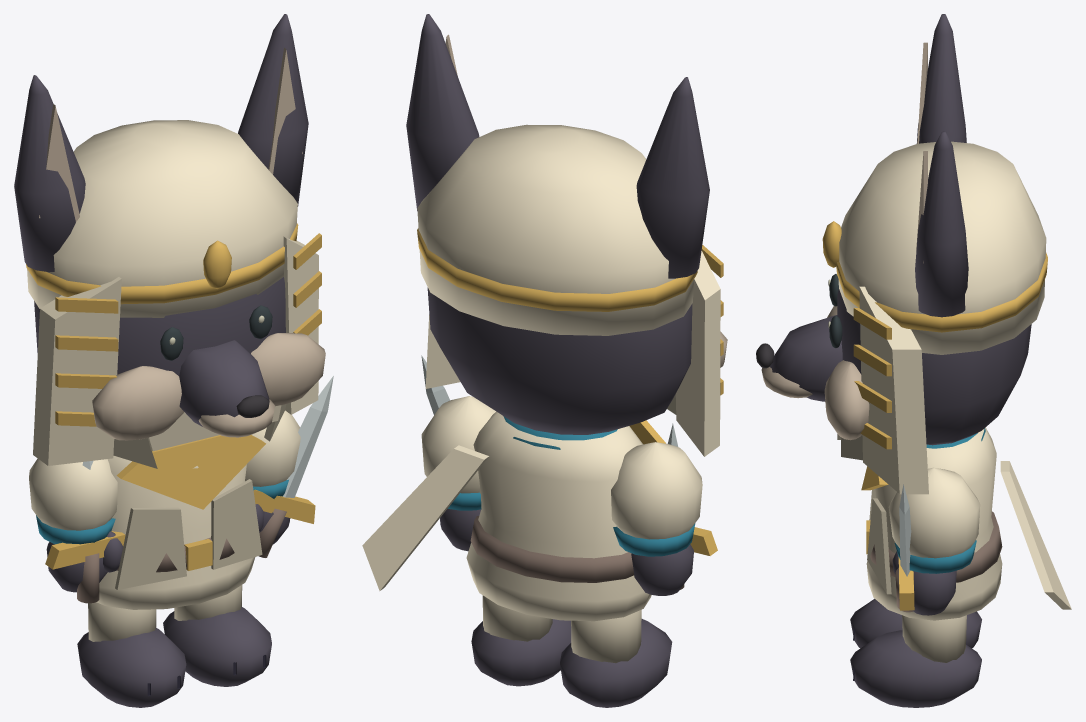
The model's file is assassin.glb.
3 renders of one model, left to right at view 1: azimuth 30°, elevation 25°; view 2: azimuth 150°, elevation 25°; view 3: azimuth 270°, elevation 25°, orthographic. The views are drawn at different scales.
Parts seen in each view (by area): view 1: Striped nemes crown, Nemes shoulder wing, Tall animal ear, Short folded tunic, Animal cheek head, Tall animal ear.001, Soft animal paw, Soft animal paw.001, Broad gold collar, Puff sleeve, Light cheek fluff, Long pointed muzzle (+30 smaller); view 2: Striped nemes crown, Short folded tunic, Animal cheek head, Tall animal ear, Tall animal ear.001, Puff sleeve, Nemes shoulder wing, Long scarf tail, Soft animal paw, Nemes front band, Soft animal paw.001, Broad leather belt (+9 smaller); view 3: Striped nemes crown, Animal cheek head, Nemes shoulder wing.001, Tall animal ear.001, Short folded tunic, Soft animal paw.001, Puff sleeve.001, Tall animal ear, Long pointed muzzle, Nemes front band, Light cheek fluff.001, Long scarf tail (+13 smaller).
Part boxes in pixels (x1,y1,x2,y2): Striped nemes crown: [27, 120, 297, 317]; Nemes shoulder wing: [33, 277, 121, 465]; Tall animal ear: [14, 75, 85, 272]; Short folded tunic: [96, 455, 255, 609]; Animal cheek head: [34, 277, 285, 376]; Tall animal ear.001: [238, 14, 308, 206]; Soft animal paw: [77, 628, 186, 707]; Soft animal paw.001: [163, 607, 271, 686]; Broad gold collar: [116, 435, 265, 509]; Puff sleeve: [29, 458, 117, 530]; Light cheek fluff: [92, 366, 183, 440]; Long pointed muzzle: [179, 340, 269, 426]; Striped nemes crown: [417, 124, 693, 335]; Short folded tunic: [466, 411, 651, 621]; Animal cheek head: [427, 287, 692, 434]; Tall animal ear: [636, 77, 709, 278]; Tall animal ear.001: [406, 14, 479, 211]; Puff sleeve: [611, 442, 702, 539]; Nemes shoulder wing: [675, 251, 720, 456]; Long scarf tail: [362, 445, 488, 590]; Soft animal paw: [560, 619, 672, 707]; Nemes front band: [417, 228, 697, 311]; Soft animal paw.001: [471, 619, 571, 686]; Broad leather belt: [470, 516, 634, 582]; Striped nemes crown: [838, 141, 1046, 354]; Animal cheek head: [837, 289, 1031, 445]; Nemes shoulder wing.001: [859, 286, 928, 494]; Tall animal ear.001: [915, 131, 968, 317]; Short folded tunic: [866, 427, 1002, 620]; Soft animal paw.001: [850, 630, 981, 707]; Puff sleeve.001: [888, 467, 980, 558]; Tall animal ear: [916, 14, 966, 143]; Long pointed muzzle: [769, 315, 842, 401]; Nemes front band: [836, 252, 1047, 332]; Light cheek fluff.001: [824, 360, 869, 440]; Long scarf tail: [1000, 461, 1071, 609].
Size of the model in its own units: 0.9027 by 1.84 by 0.862.
